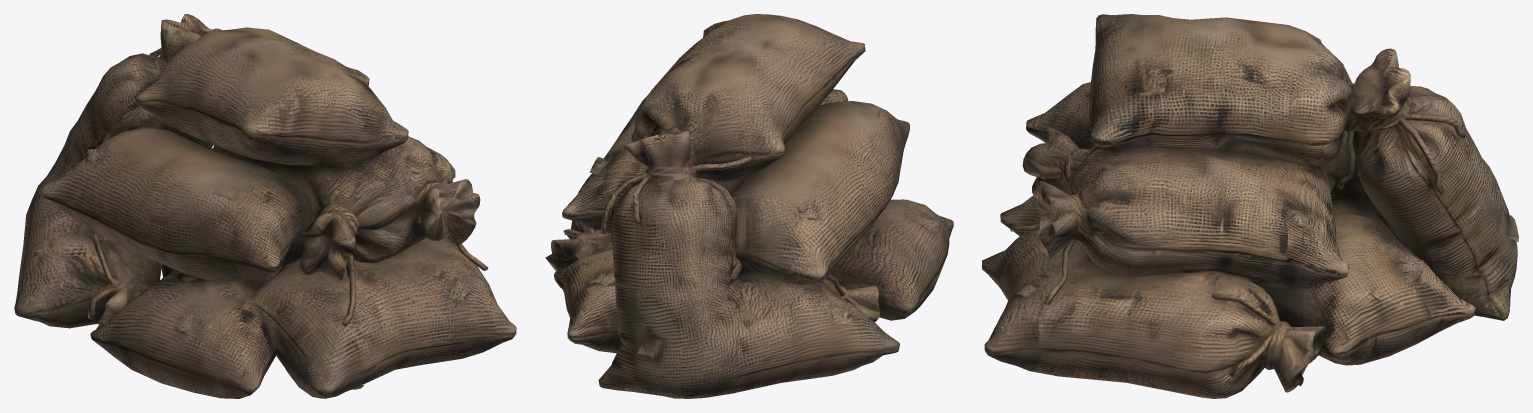
File: SM_Env_SohoGrainSacks.fbx
3 views of the same model, side by side, from view 1: azimuth 30°, elevation 25°; view 2: azimuth 150°, elevation 25°; view 3: azimuth 270°, elevation 25° (orthographic). The views are drawn at different scales.
Parts seen in each view (by area): view 1: SM_Env_SohoGrainSacks; view 2: SM_Env_SohoGrainSacks; view 3: SM_Env_SohoGrainSacks.
Boxes of the visible parts, box(x1,y1,x2,y2) form: SM_Env_SohoGrainSacks: box(14, 14, 516, 398); SM_Env_SohoGrainSacks: box(545, 14, 953, 398); SM_Env_SohoGrainSacks: box(982, 14, 1518, 398).
Size of the model in its own units: 34.82 by 39.4 by 24.
1 material, 1 textured.
